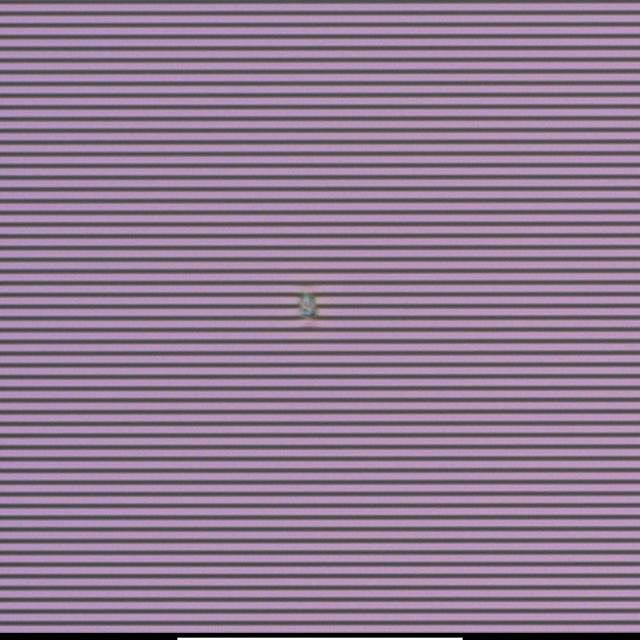03_intrusion: (298, 291, 321, 320)
